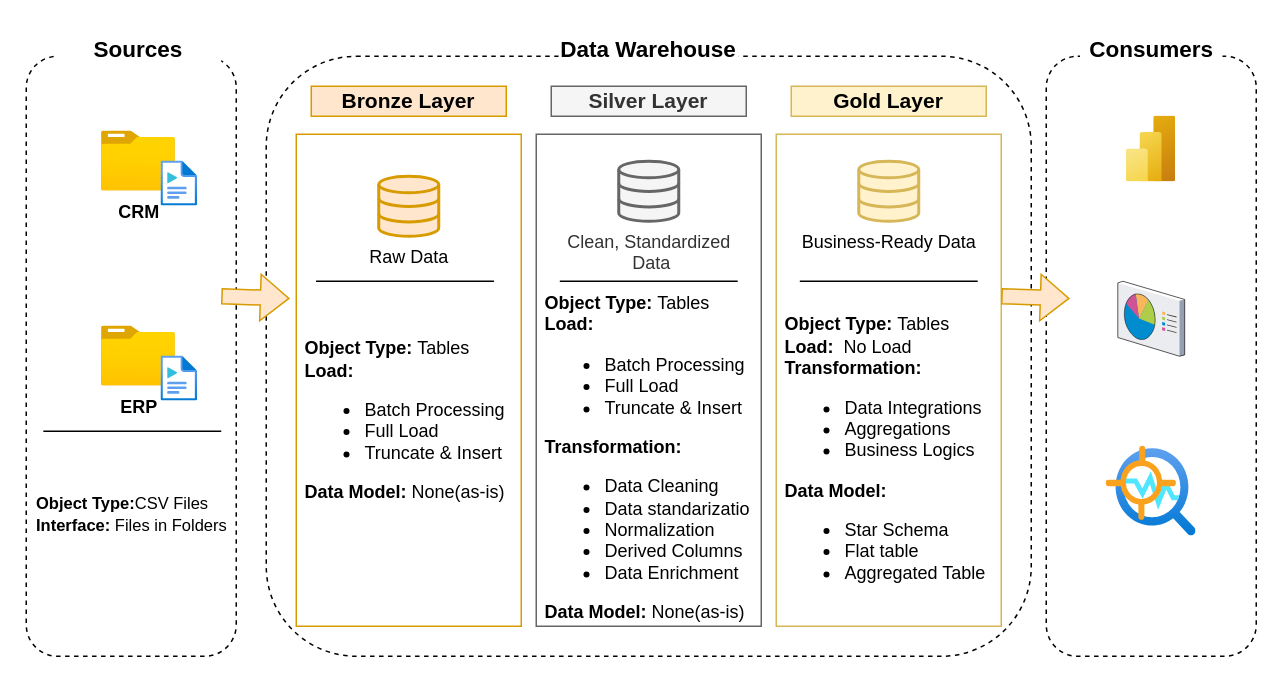
The diagram is 1283 pixels wide and 683 high, and some of its shapes have lost their labels. The centre of each missing label's shape, as x and y in pixels:
"BI Dashboards" belongs at pixel 1150 149.
"Machine Learning" belongs at pixel 1151 491.
"Reporting" belongs at pixel 1150 318.
